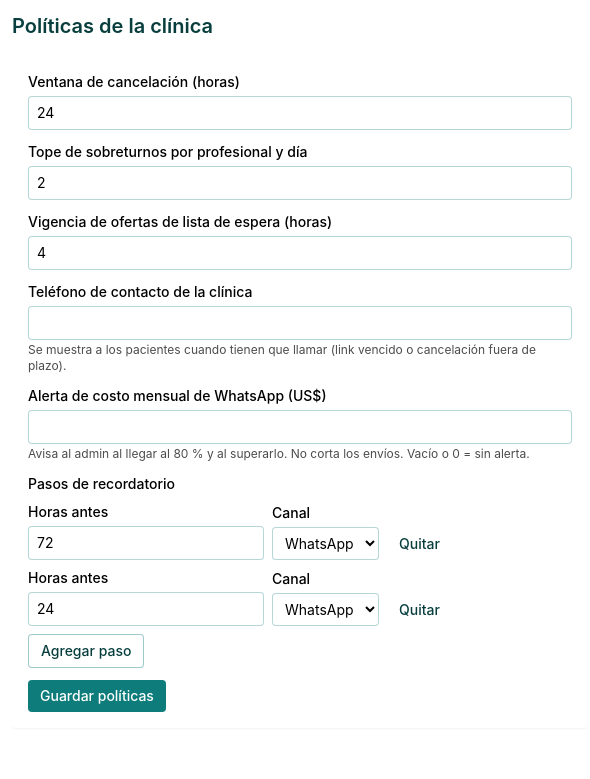
PoliciesPage › el admin cambia el tope de sobreturnos y lo ve al recargar
Replace the text in the number field labelled "Tope de sobreturnos por profesional y día" with "3" at (300, 183), box [28, 166, 572, 200]
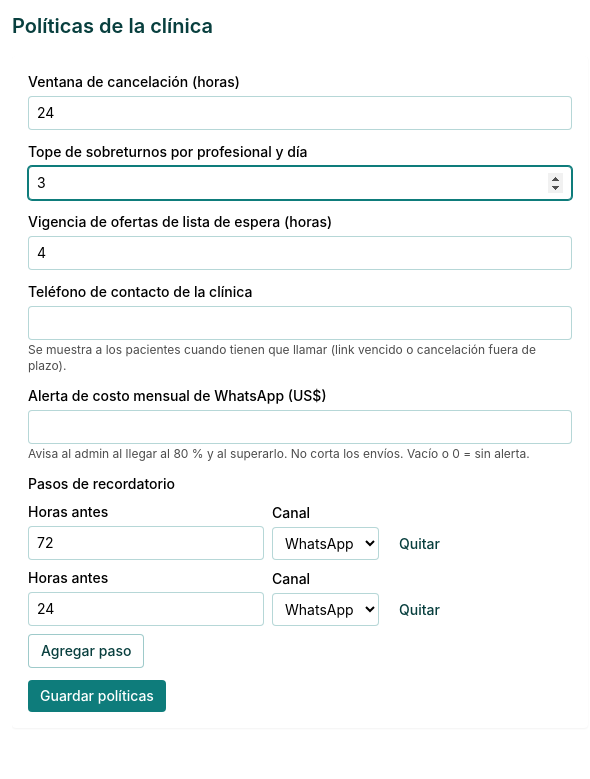
Click the button "Guardar políticas" at (97, 696), box [28, 680, 166, 712]
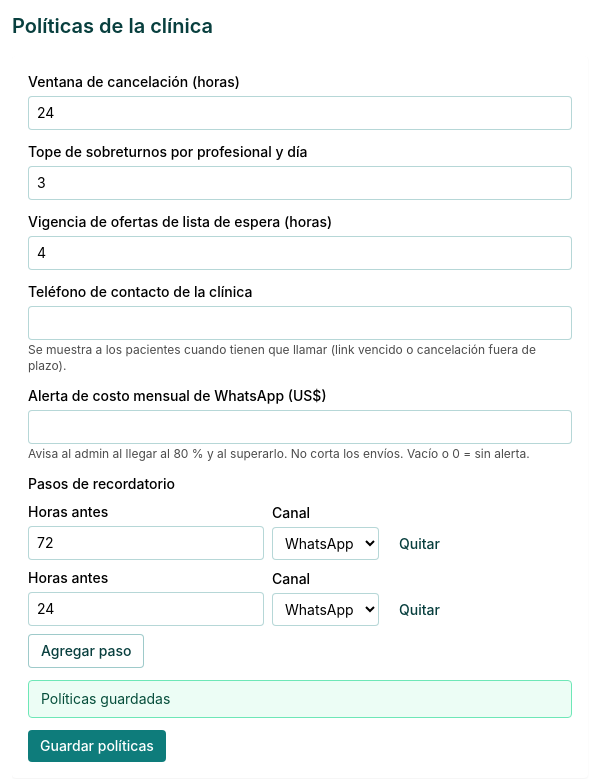
Expected: the text "Políticas guardadas" is shown, [28, 680, 572, 718]
